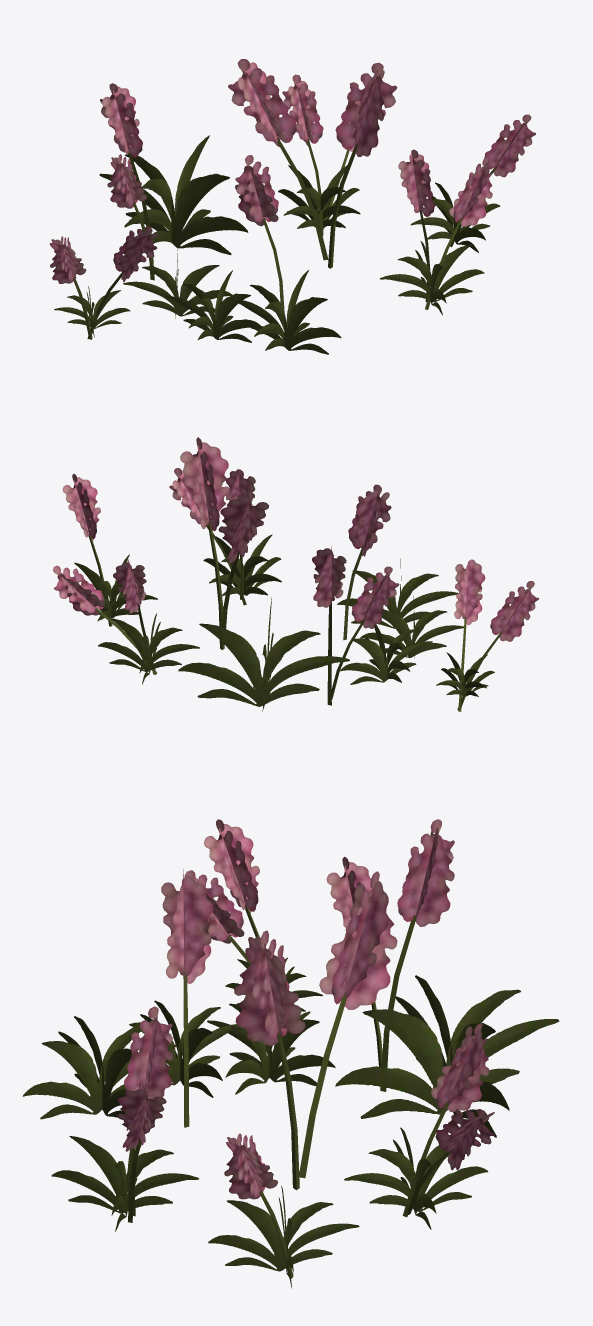
3 views of the same model, one above another, from view 1: azimuth 30°, elevation 25°; view 2: azimuth 150°, elevation 25°; view 3: azimuth 270°, elevation 25° (orthographic). The views are drawn at different scales.
Parts seen in each view (by area): view 1: body0_model0_lod0_mesh0; view 2: body0_model0_lod0_mesh0; view 3: body0_model0_lod0_mesh0.
Part boxes in pixels (x1,y1,x2,y2): body0_model0_lod0_mesh0: (49, 59, 535, 354); body0_model0_lod0_mesh0: (53, 437, 538, 711); body0_model0_lod0_mesh0: (22, 819, 559, 1288).
Bounding box in the file's own units: 85.81 × 36.02 × 54.63.
1 material, 1 textured.
